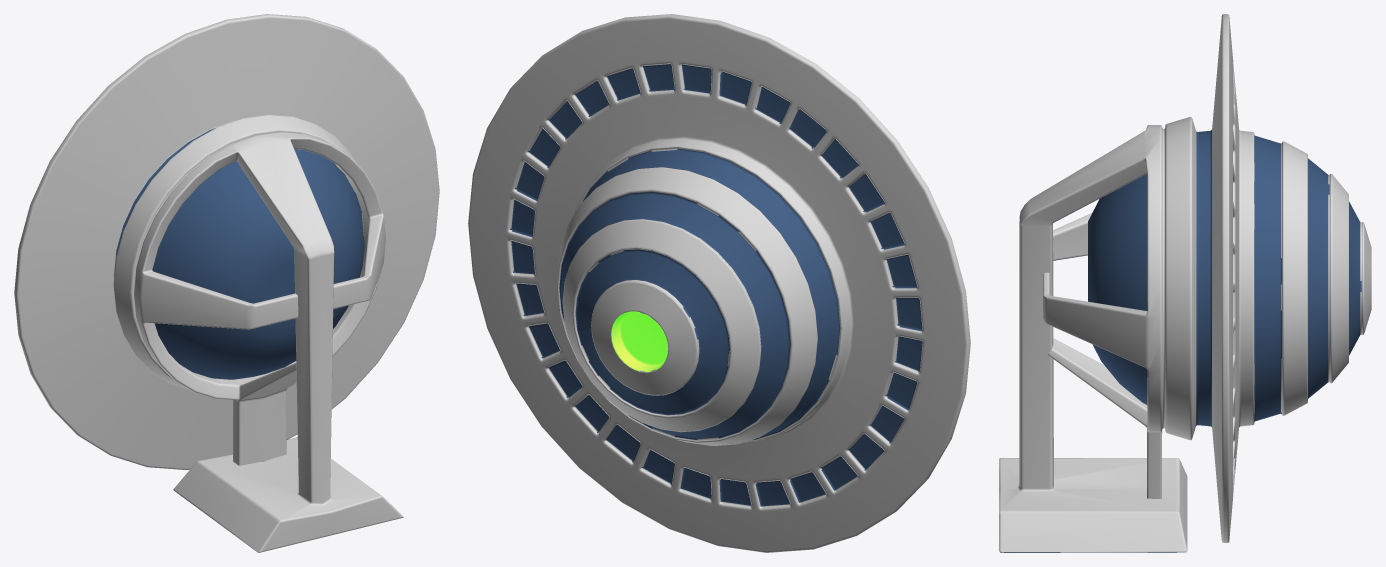
File: detector.glb
The picture shows the model from 3 angles, left to right: view 1: azimuth 30°, elevation 25°; view 2: azimuth 150°, elevation 25°; view 3: azimuth 270°, elevation 25°; orthographic projection. The views are drawn at different scales.
Parts seen in each view (by area): view 1: Detector; view 2: Detector; view 3: Detector.
Boxes of the visible parts, x1,y1,x2,y2 form: Detector: (14, 14, 439, 552); Detector: (468, 14, 970, 552); Detector: (999, 14, 1371, 552).
Bounding box in the file's own units: 0.5606 × 0.5606 × 0.3944.
